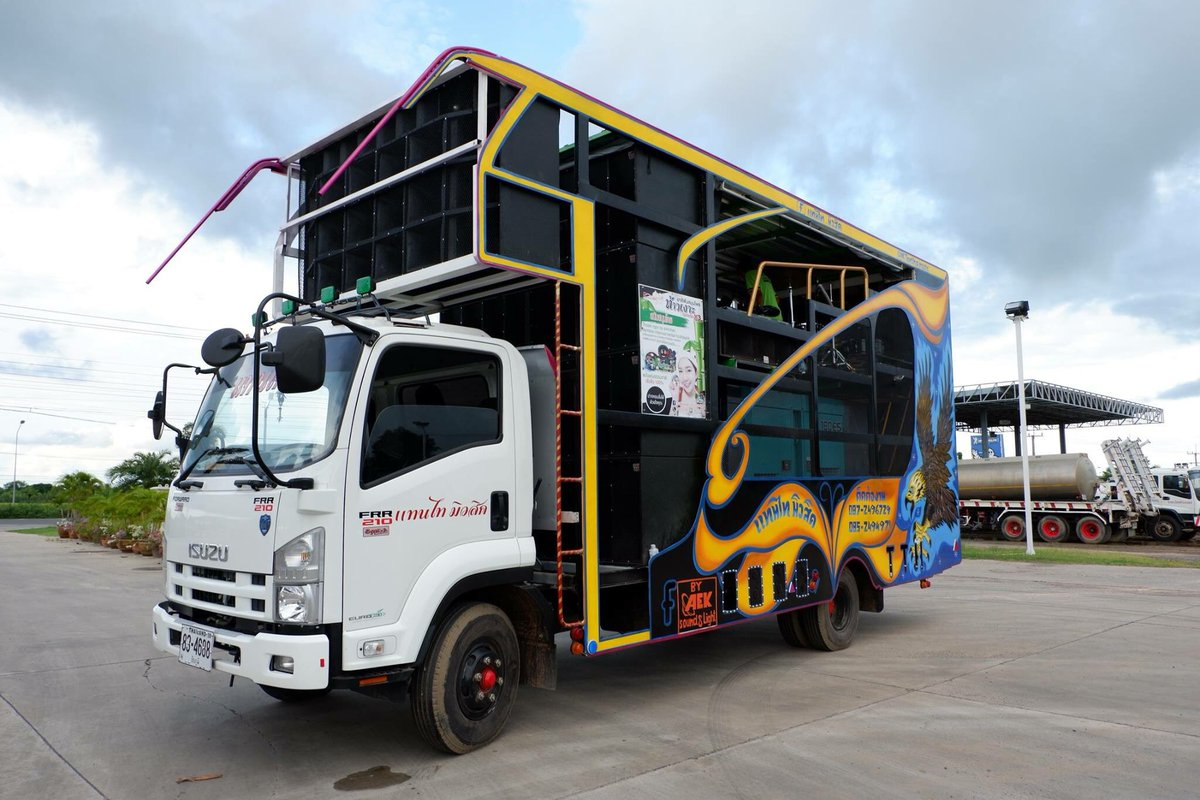truck: (151, 87, 969, 759)
